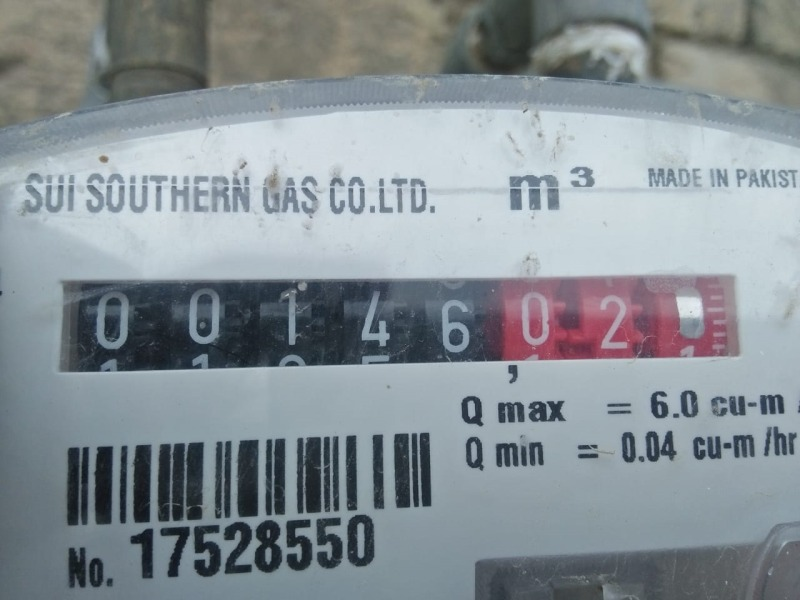ssgc: (51, 273, 735, 369)
